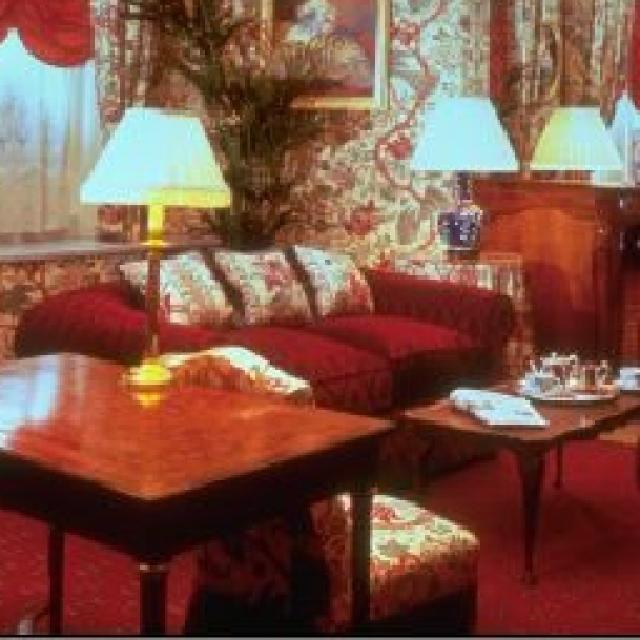armchair crop: (142, 348, 478, 632)
book case: (450, 388, 548, 422)
cup and saucer: (520, 368, 565, 390), (608, 365, 635, 388)
curtain crop: (85, 0, 160, 148)
lamp crop: (78, 102, 225, 385), (398, 95, 520, 260), (525, 108, 620, 165)
mirror crop: (485, 0, 635, 178)
painting crop: (252, 0, 385, 108)
pillow occluded: (115, 248, 235, 325), (212, 250, 308, 322), (290, 242, 370, 318)
plant -x: (102, 0, 330, 245)
sideboard: (468, 170, 638, 358)
small table part: (390, 350, 635, 582), (375, 238, 522, 290)
sofa bed: (12, 252, 508, 412)
table -X: (0, 342, 388, 630)
teapot: (520, 345, 572, 375)
tray occluded: (512, 375, 615, 402)
